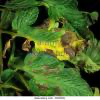Tomato leaf late blight: (11, 9, 91, 61), (19, 51, 91, 96)
